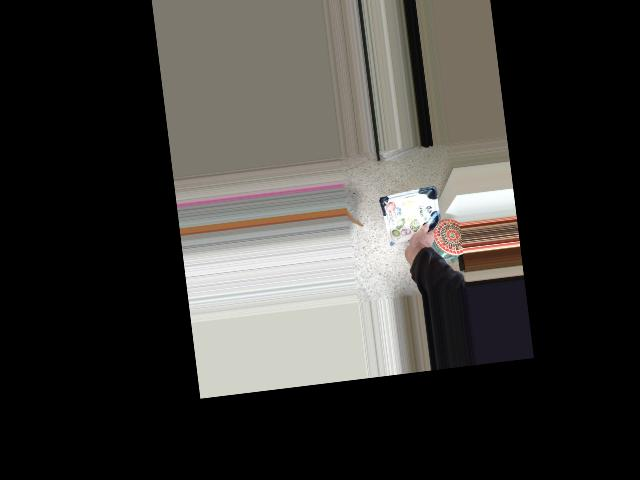cheese: (380, 197, 444, 263)
